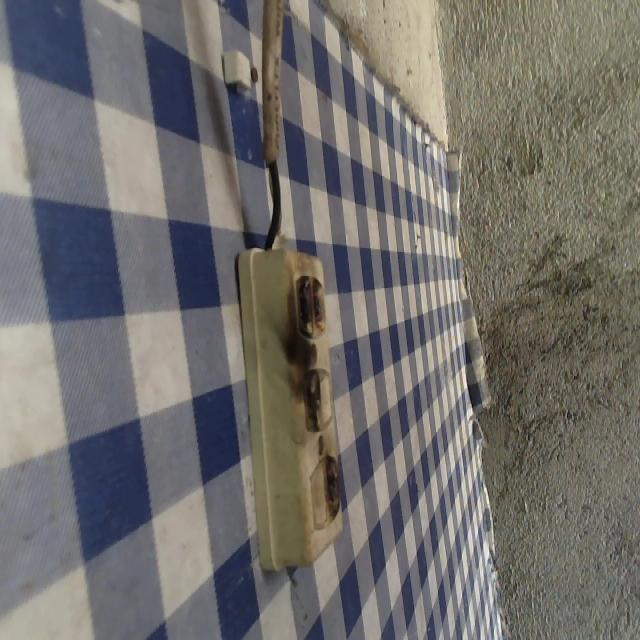-: (285, 258, 333, 350), (316, 447, 351, 522), (293, 367, 327, 433)
